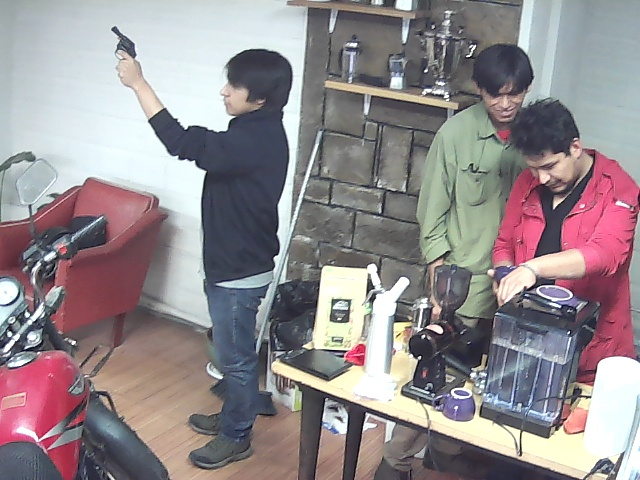pistola: (100, 18, 149, 88)
